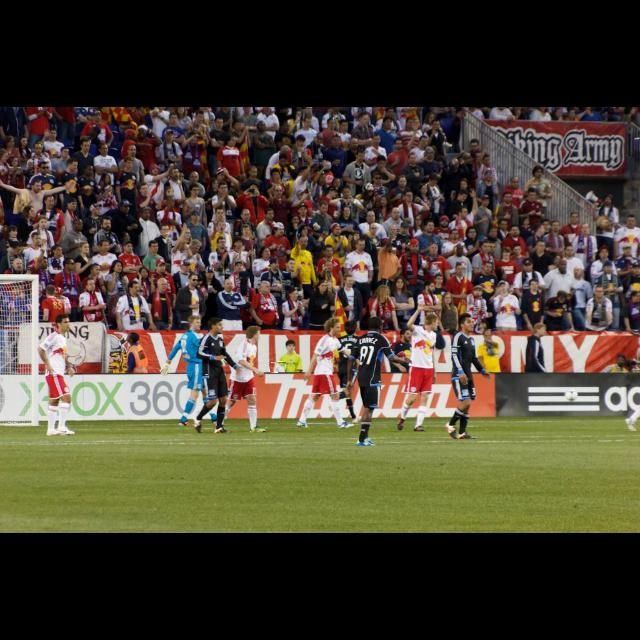Football: (270, 362, 286, 372)
